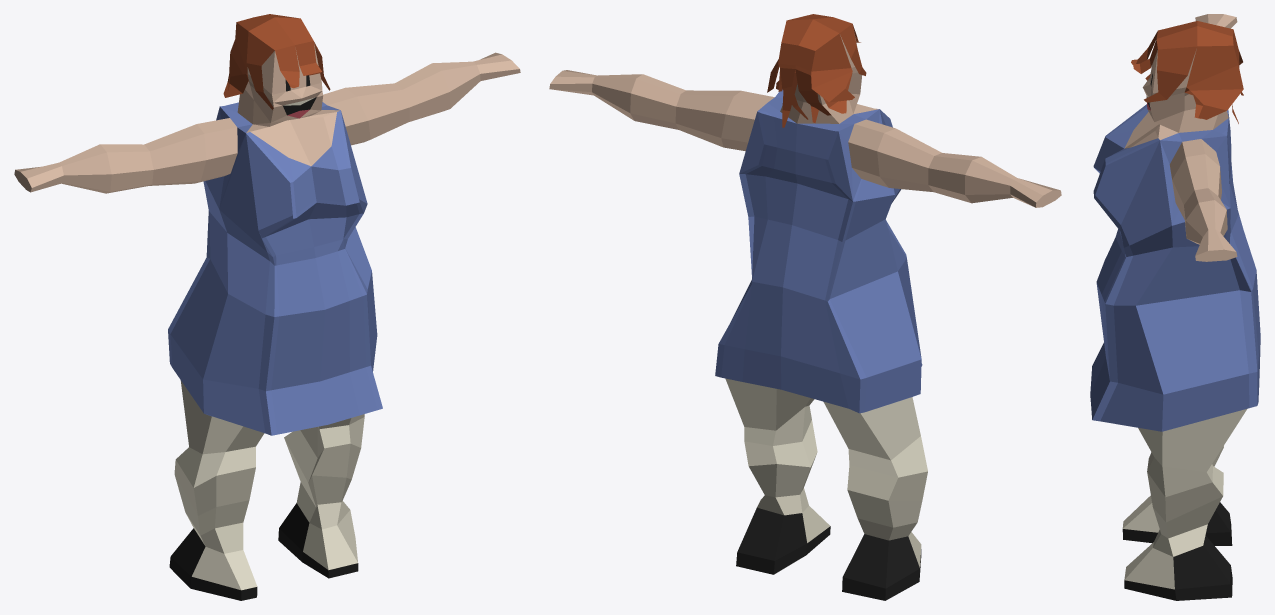
Rendered from Maman2.fbx.
The picture shows the model from 3 angles, left to right: view 1: azimuth 30°, elevation 25°; view 2: azimuth 150°, elevation 25°; view 3: azimuth 270°, elevation 25°; orthographic projection.
Visible parts, largest first — view 1: Cube.001; view 2: Cube.001; view 3: Cube.001.
Part boxes in pixels (box(x1,y1,x2,y2)): Cube.001: box(14, 14, 520, 600); Cube.001: box(549, 14, 1061, 600); Cube.001: box(1090, 14, 1260, 600).
Bounding box in the file's own units: 540 × 571 × 162.
